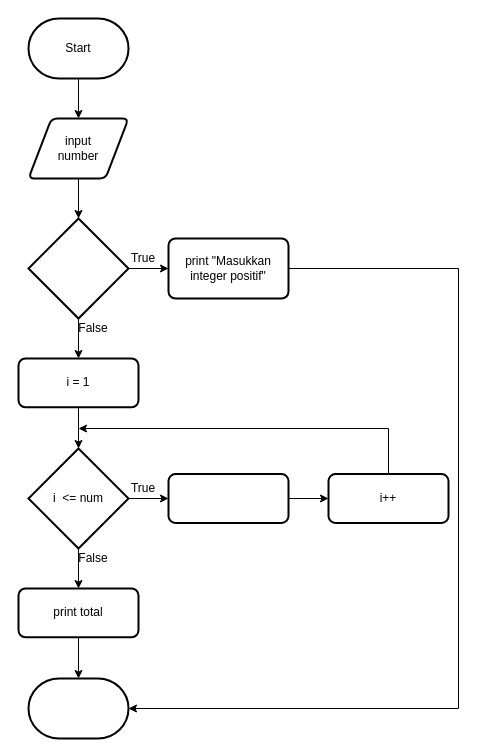
The diagram is 484 pixels wide and 756 high, and some of its shapes have lost their labels. Here are the shapes that lost their labels. From the top down, the centre of each, then its label:
At pixel 78 268: "number <= 0".
At pixel 228 498: "total += i".
At pixel 78 708: "End".
